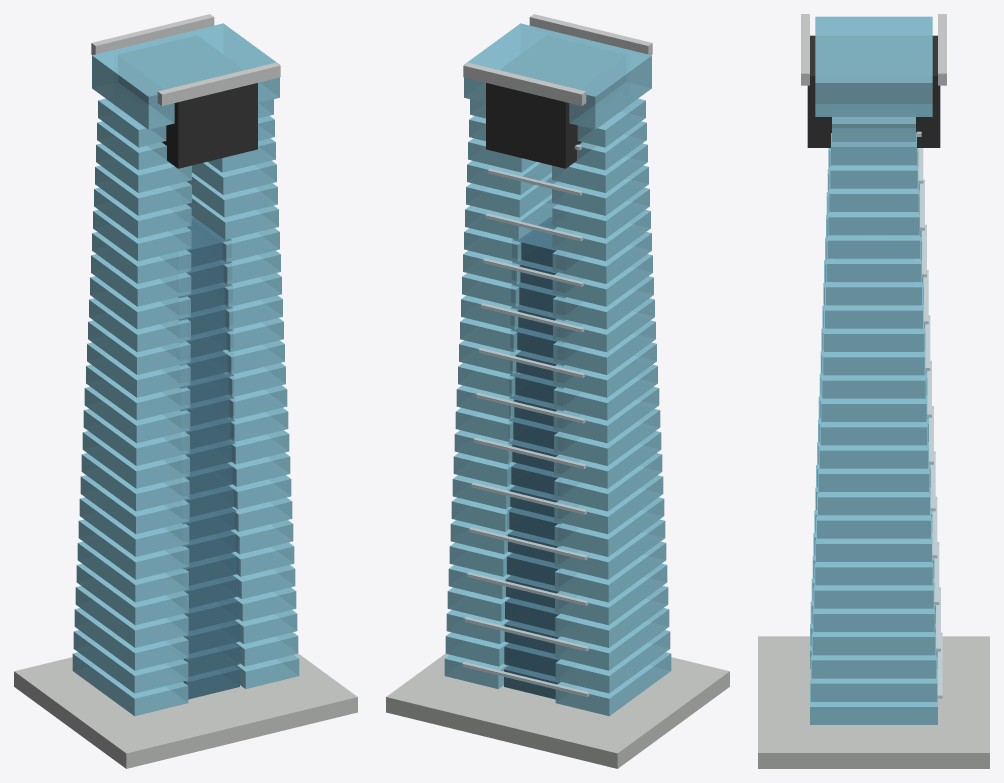
Rendered from voxel-shanghai-world-financial-center.gltf.
The picture shows the model from 3 angles, left to right: view 1: azimuth 30°, elevation 25°; view 2: azimuth 150°, elevation 25°; view 3: azimuth 270°, elevation 25°; orthographic projection. The views are drawn at different scales.
Bounding box in the file's own units: 2.5 × 6.66 × 2.1.
